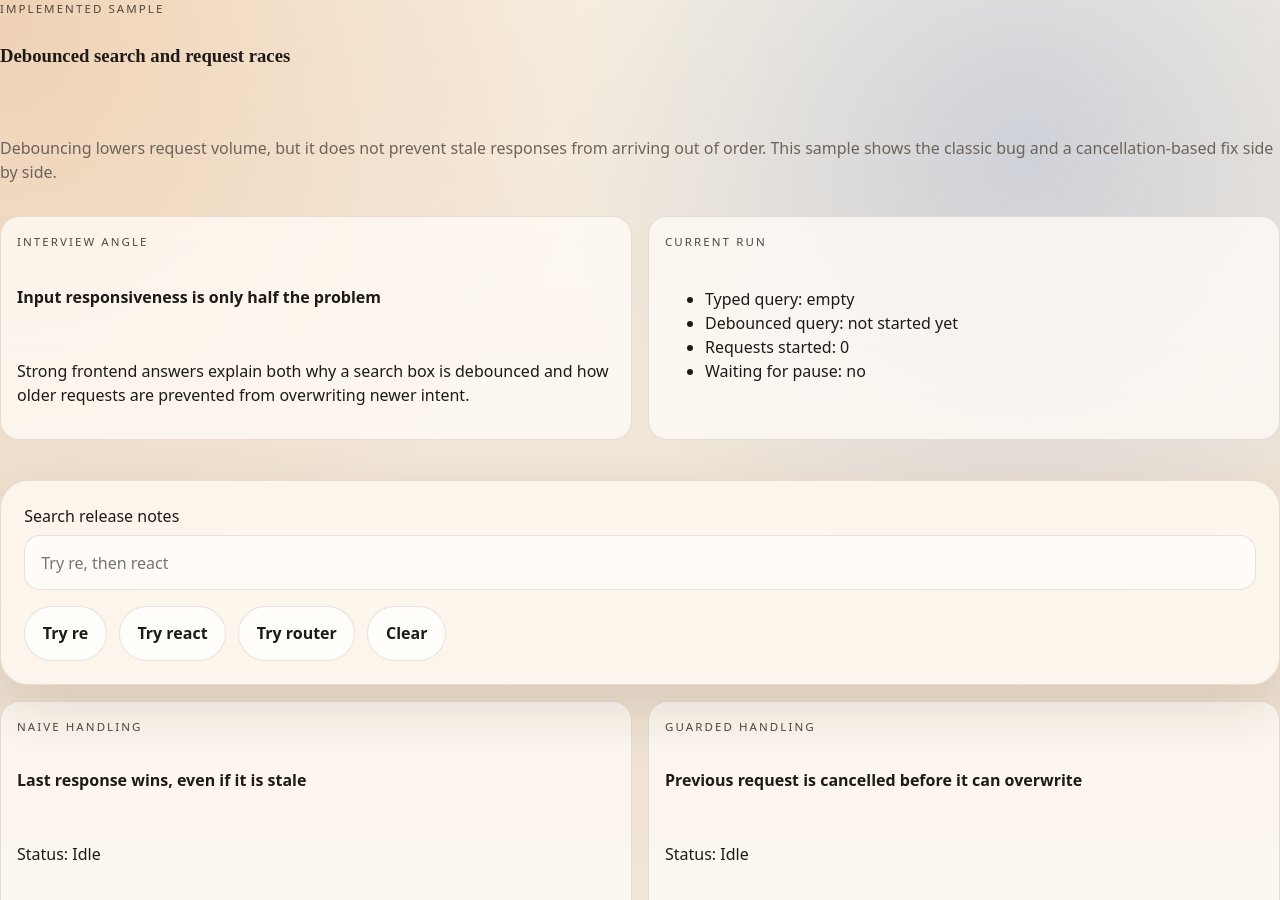
Test case: debounced search race sample › waits for the debounce window before starting a search
Type "rea" into the search field labelled "Search release notes" at (640, 562), box [24,535,1256,590]
Wait 350 ms
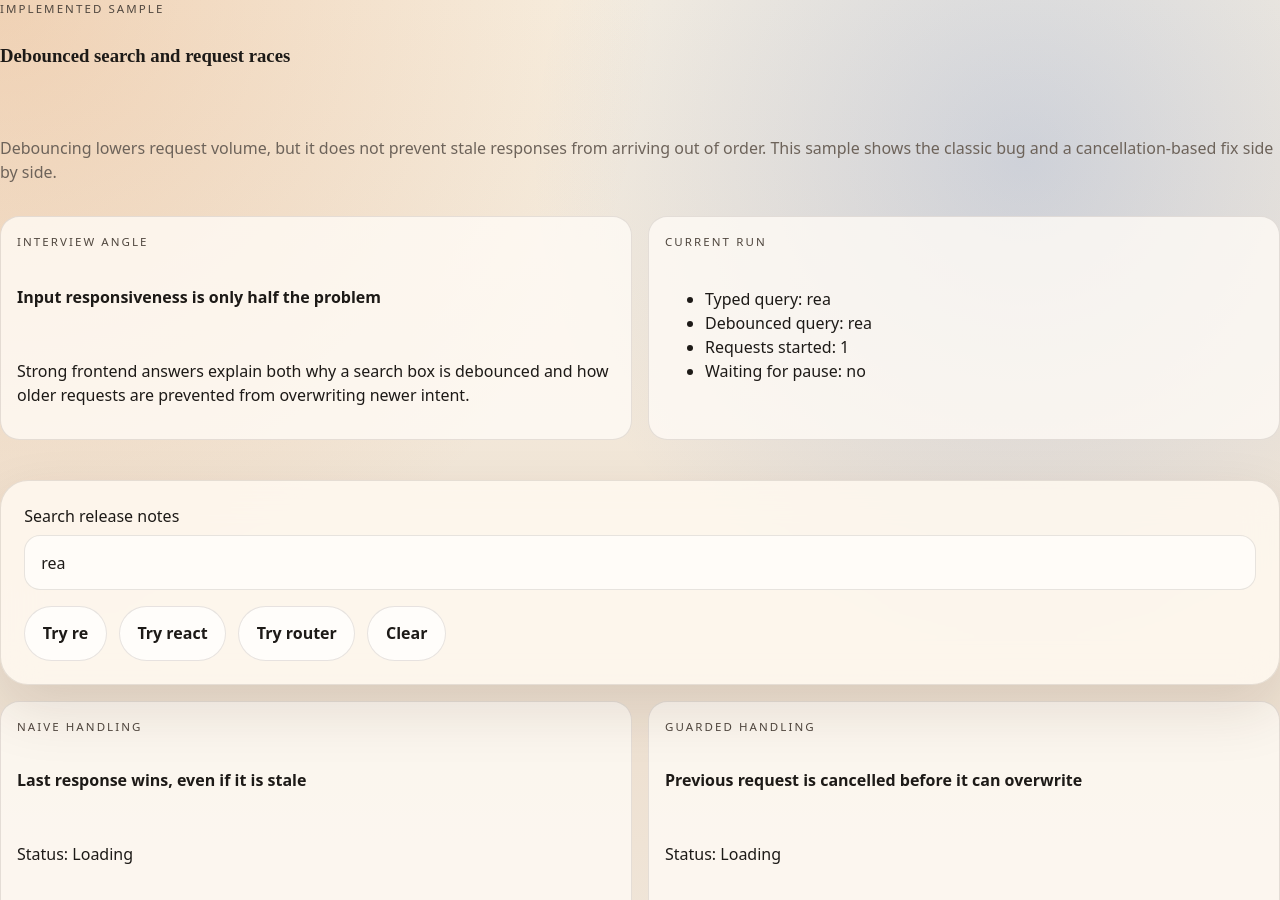
Check: the list item "Debounced query: rea" is shown, box [705,312,872,334]
Check: the list item "Requests started: 1" is shown, box [705,336,849,358]
